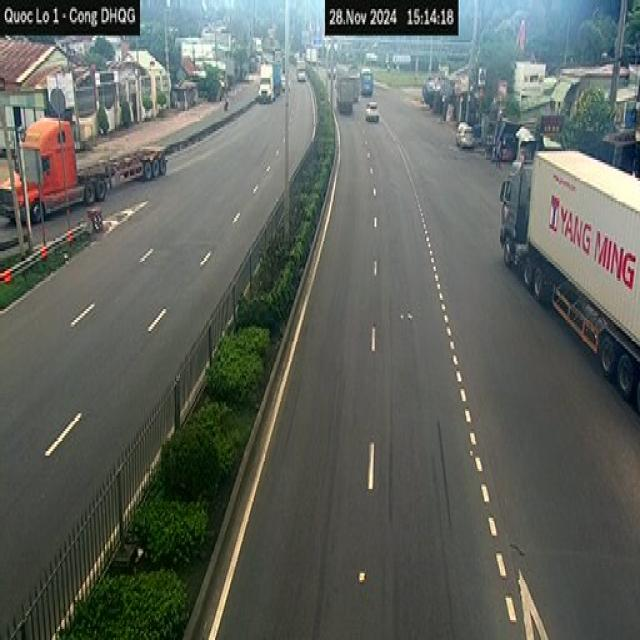container-truck: (496, 132, 640, 410), (1, 106, 176, 224)
